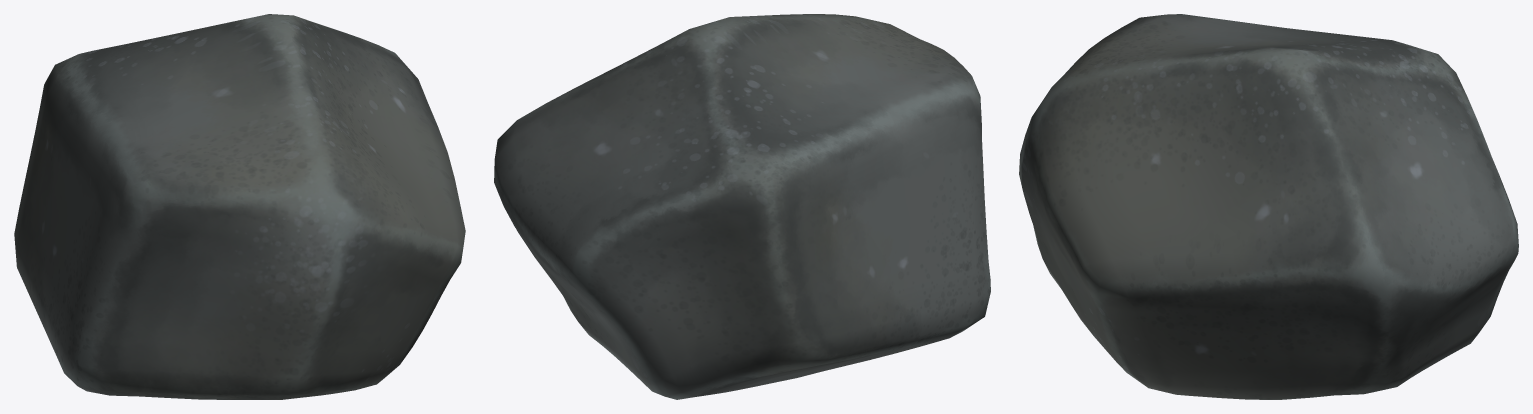
Rendered from asteroid2.glb.
3 views of the same model, side by side, from view 1: azimuth 30°, elevation 25°; view 2: azimuth 150°, elevation 25°; view 3: azimuth 270°, elevation 25° (orthographic). The views are drawn at different scales.
Parts seen in each view (by area): view 1: pPlatonic4; view 2: pPlatonic4; view 3: pPlatonic4.
Part boxes in pixels (x1,y1,x2,y2): pPlatonic4: [14, 14, 465, 399]; pPlatonic4: [494, 14, 990, 399]; pPlatonic4: [1019, 14, 1518, 399].
Bounding box in the file's own units: 13.77 × 10.93 × 14.28.
Materials: 1 (1 with a texture image).
